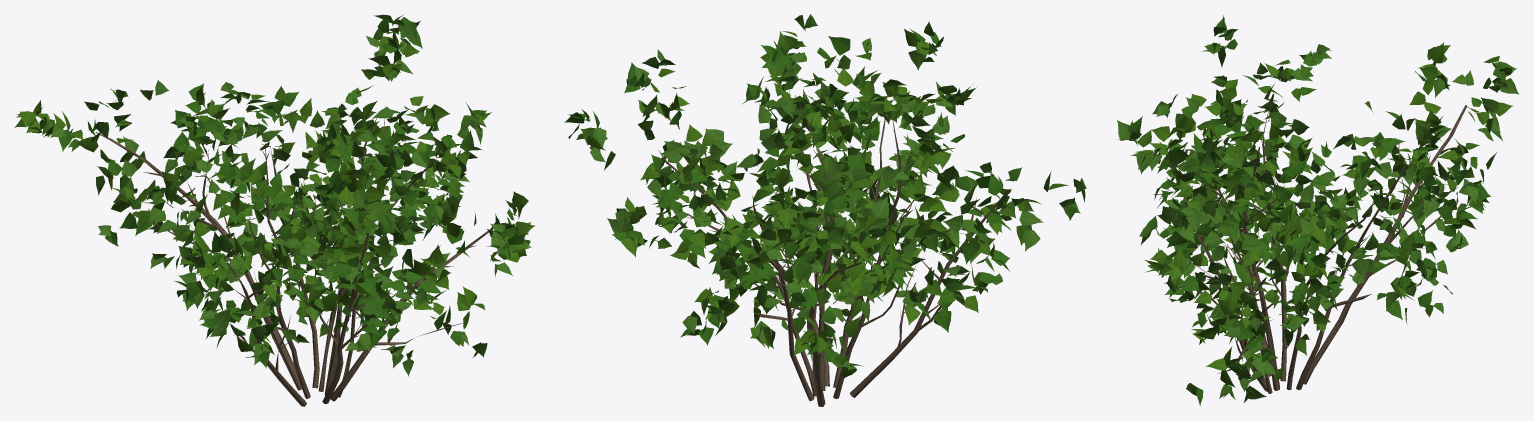
The model's file is bush_hazel.glb.
The picture shows the model from 3 angles, left to right: view 1: azimuth 30°, elevation 25°; view 2: azimuth 150°, elevation 25°; view 3: azimuth 270°, elevation 25°; orthographic projection. The views are drawn at different scales.
Parts seen in each view (by area): view 1: bush_hazel_leaf_a, bush_hazel_leaf_c, bush_hazel_leaf_b, bush_hazel_bark; view 2: bush_hazel_leaf_a, bush_hazel_leaf_c, bush_hazel_leaf_b, bush_hazel_bark; view 3: bush_hazel_leaf_a, bush_hazel_leaf_c, bush_hazel_leaf_b, bush_hazel_bark.
Part boxes in pixels (x1,y1,x2,y2): bush_hazel_leaf_a: [16, 15, 531, 368]; bush_hazel_leaf_c: [20, 23, 535, 357]; bush_hazel_leaf_b: [14, 14, 528, 376]; bush_hazel_bark: [95, 106, 493, 406]; bush_hazel_leaf_a: [568, 31, 1086, 369]; bush_hazel_leaf_c: [580, 15, 1068, 368]; bush_hazel_leaf_b: [564, 14, 1085, 378]; bush_hazel_bark: [658, 90, 1008, 406]; bush_hazel_leaf_a: [1117, 30, 1518, 399]; bush_hazel_leaf_c: [1117, 15, 1512, 397]; bush_hazel_leaf_b: [1128, 17, 1516, 406]; bush_hazel_bark: [1170, 91, 1467, 393].
Size of the model in its own units: 2.75 by 2.33 by 2.5.
4 materials, 4 textured.
